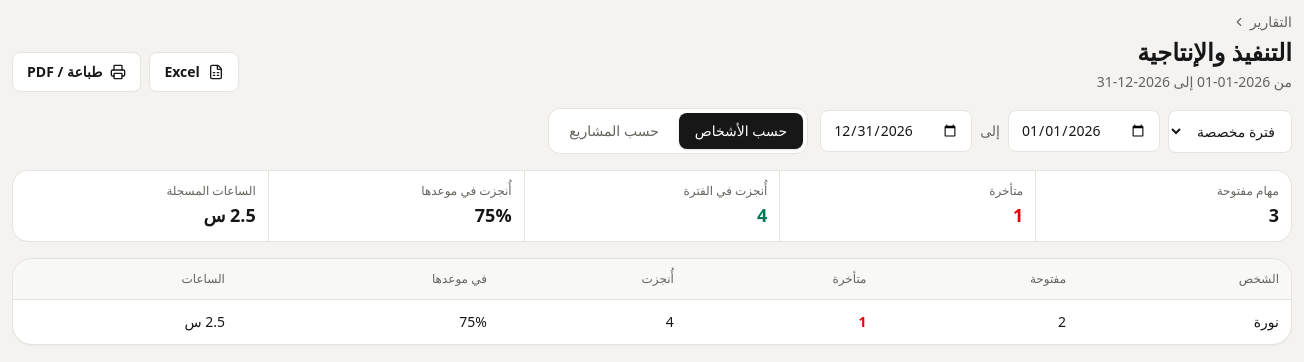
Test case: execution report › shows totals and switches between people and projects
Expected: the text "نورة" is shown, 1078,300 -> 1291,344
Expected: the text "75%" is shown, 475,203 -> 512,227
Click the tab "حسب المشاريع" at (614,131), box 553,113 -> 675,149
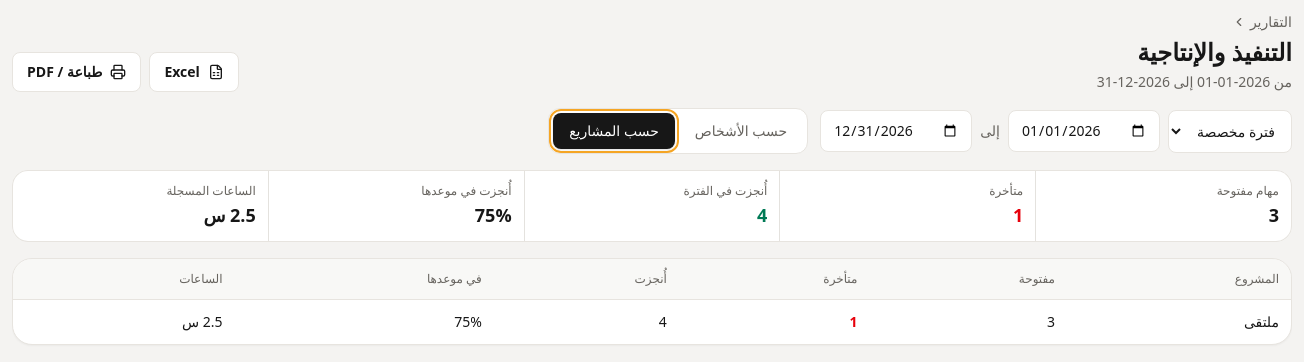
Now the text "ملتقى" is shown, box 1067,300 -> 1291,344
